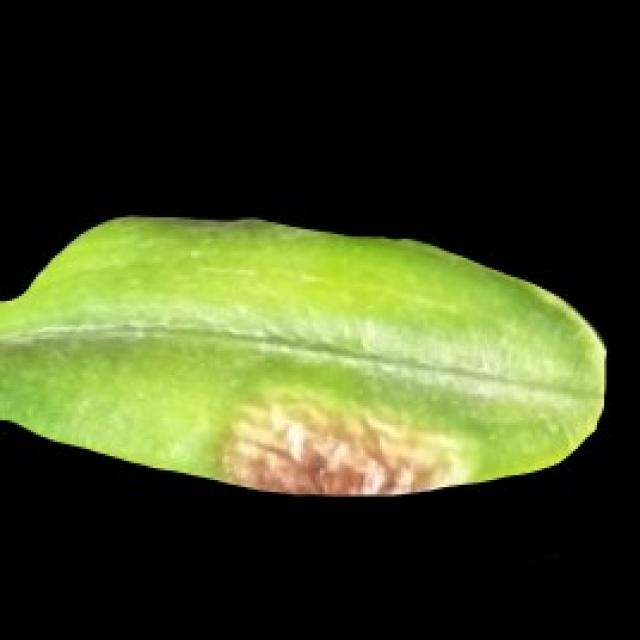spots: (0, 208, 609, 499)
sunburn: (213, 389, 454, 499)
